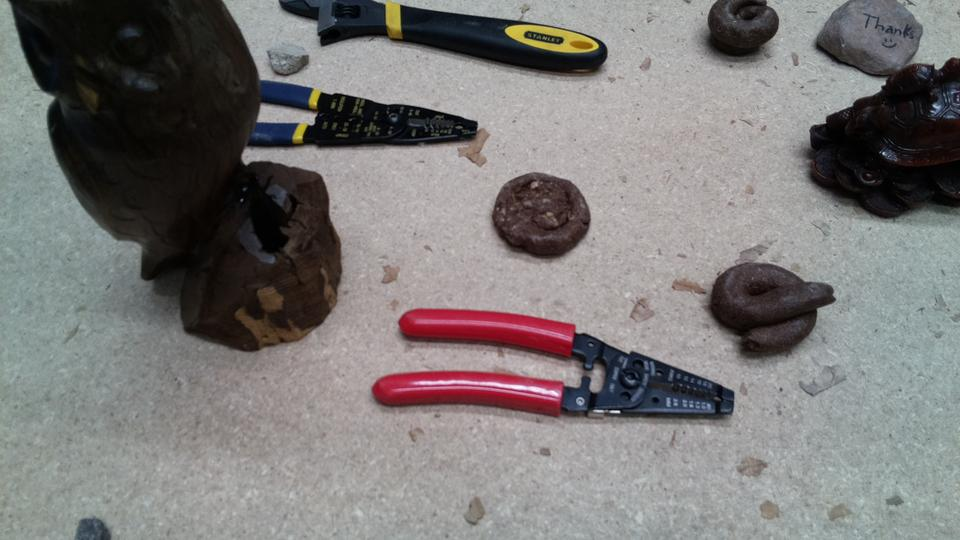poop: (706, 257, 840, 363), (486, 163, 592, 263), (703, 1, 785, 60)
